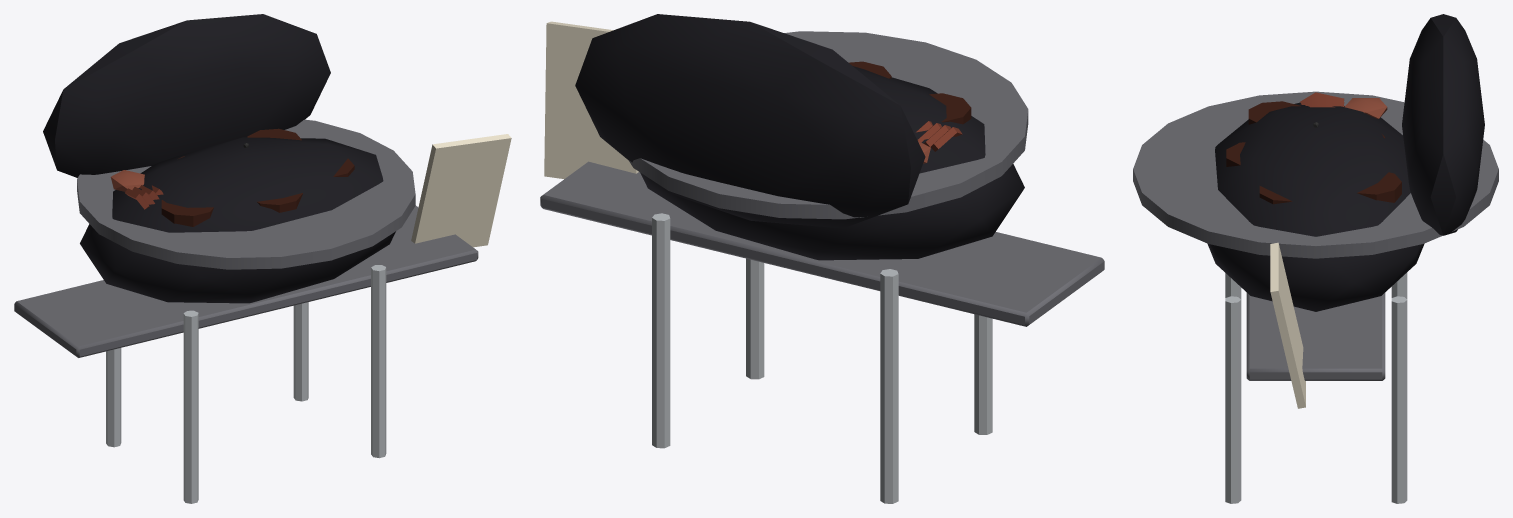
Rendered from bbq_grill.glb.
The picture shows the model from 3 angles, left to right: view 1: azimuth 30°, elevation 25°; view 2: azimuth 150°, elevation 25°; view 3: azimuth 270°, elevation 25°; orthographic projection. The views are drawn at different scales.
Parts seen in each view (by area): view 1: bbq_grill; view 2: bbq_grill; view 3: bbq_grill.
Boxes of the visible parts, <box> form: bbq_grill: <box>14,14,511,503</box>; bbq_grill: <box>540,14,1104,503</box>; bbq_grill: <box>1133,14,1498,503</box>.
Bounding box in the file's own units: 1.99 × 1.65 × 1.32.
